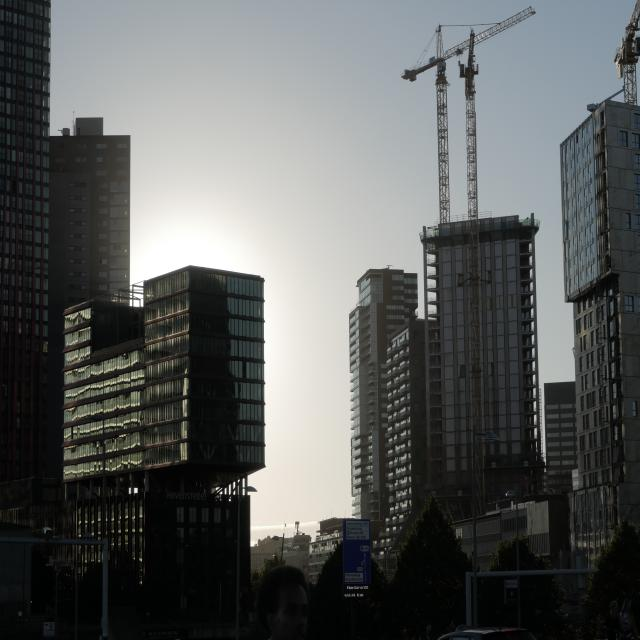building: (58, 263, 254, 605), (0, 0, 128, 507), (559, 96, 640, 550), (419, 211, 543, 496), (346, 265, 428, 497)
